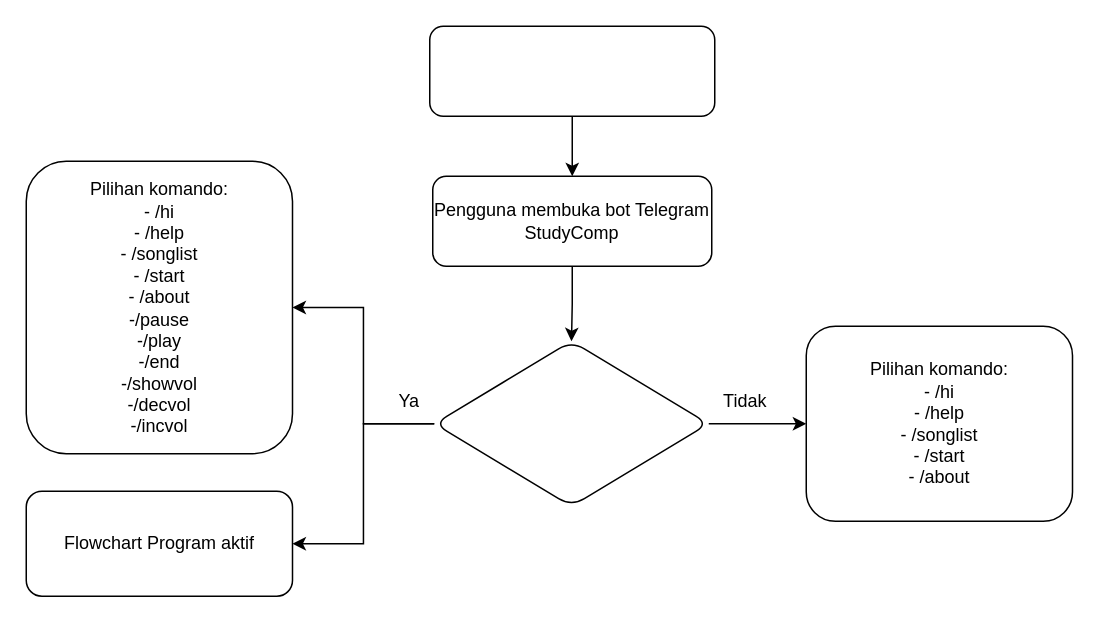
Some shapes in this 1100 by 623 pixel diagram are drawn without their labels. Here are the shapes that lost their labels. From the top down, the box of each, then its label:
(428, 25, 715, 116): Menghubungkan Raspberry Pi dengan power supply
(433, 340, 709, 506): Pengguna dapat memasukkan input "/start"
